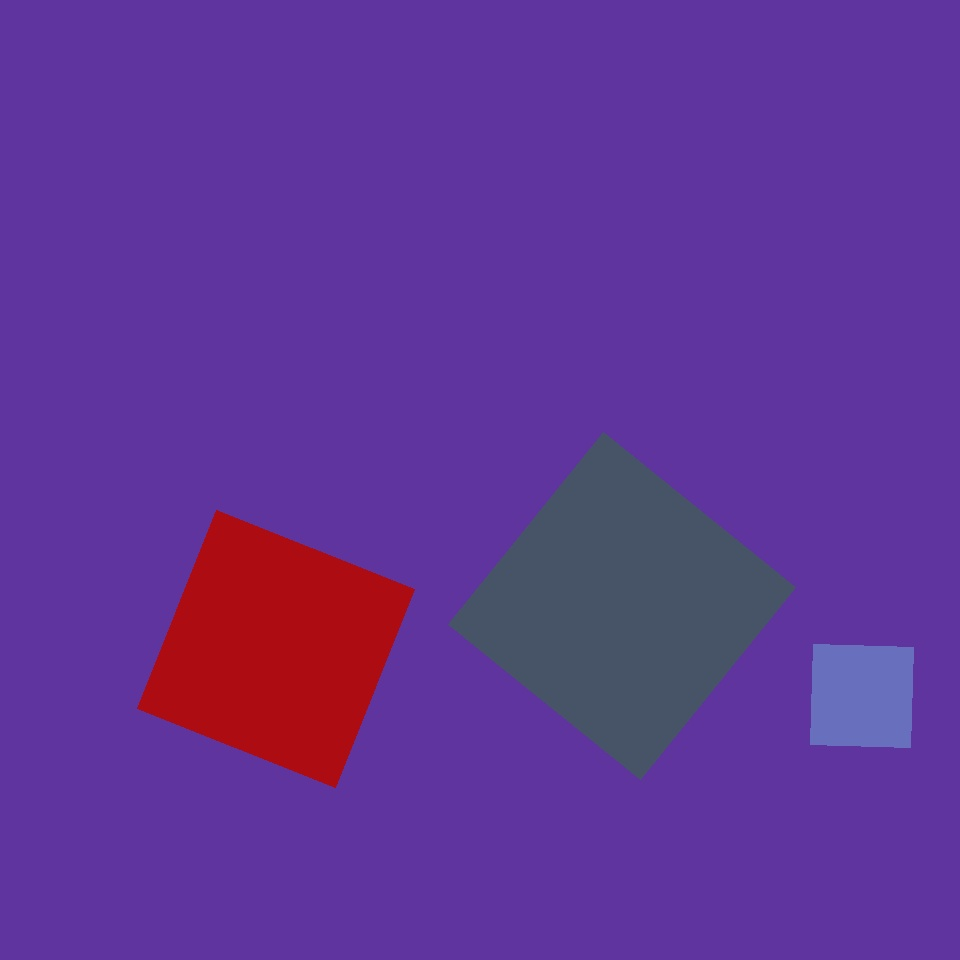circle: (503, 507, 714, 718), (237, 93, 427, 272)
square: (449, 432, 796, 780), (193, 216, 514, 537), (466, 139, 786, 460), (138, 510, 414, 788), (811, 644, 914, 747)
triangle: (387, 45, 535, 193)
